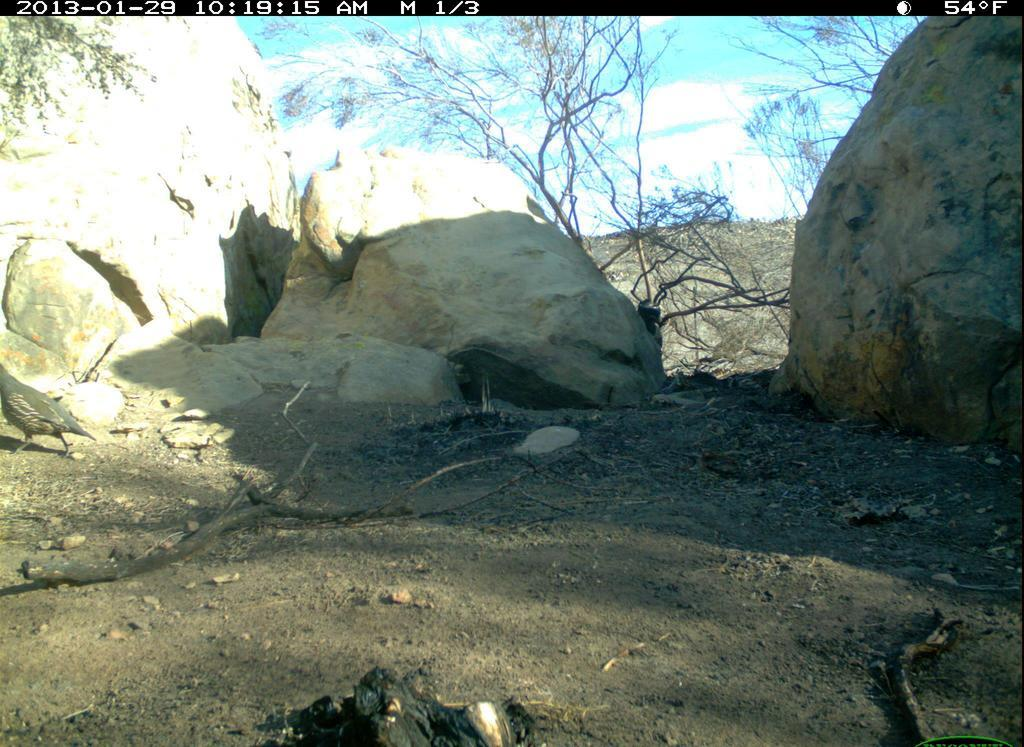bird: (3, 367, 111, 474)
